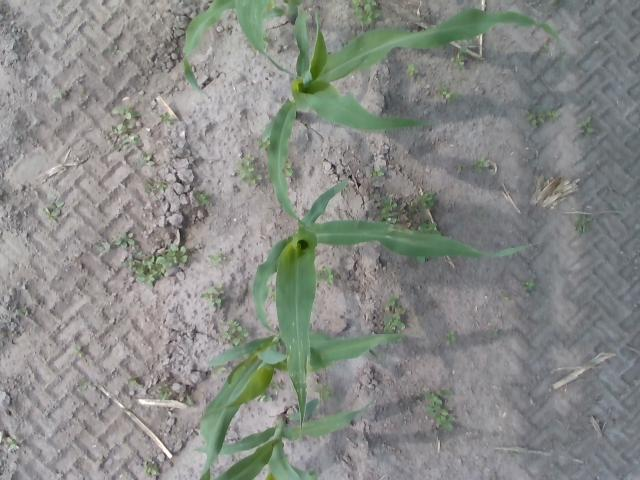Maize: (253, 182, 541, 434), (266, 1, 560, 228), (198, 331, 400, 480), (192, 409, 364, 480), (180, 0, 314, 91)
Weeds: (134, 253, 174, 282), (352, 2, 383, 25), (240, 156, 264, 183), (43, 196, 65, 220), (382, 198, 401, 222), (436, 412, 456, 432), (170, 244, 188, 264), (204, 288, 222, 308), (426, 396, 444, 415), (115, 232, 135, 249), (147, 178, 168, 193), (114, 106, 139, 118), (125, 134, 141, 150), (319, 269, 335, 284), (580, 118, 594, 134), (226, 320, 242, 334), (414, 222, 438, 231), (416, 193, 434, 205), (386, 318, 404, 329), (228, 331, 246, 342), (528, 112, 542, 125), (159, 114, 177, 124), (143, 462, 158, 474), (317, 386, 333, 397), (141, 154, 155, 166), (407, 65, 421, 76), (452, 54, 464, 66), (196, 192, 208, 204), (476, 160, 490, 170), (116, 124, 128, 135), (75, 346, 86, 358), (98, 245, 114, 253), (442, 88, 452, 100), (446, 331, 457, 341), (260, 394, 277, 400), (391, 297, 402, 306), (526, 281, 538, 289), (129, 378, 141, 385), (548, 110, 558, 118), (216, 256, 228, 262)
